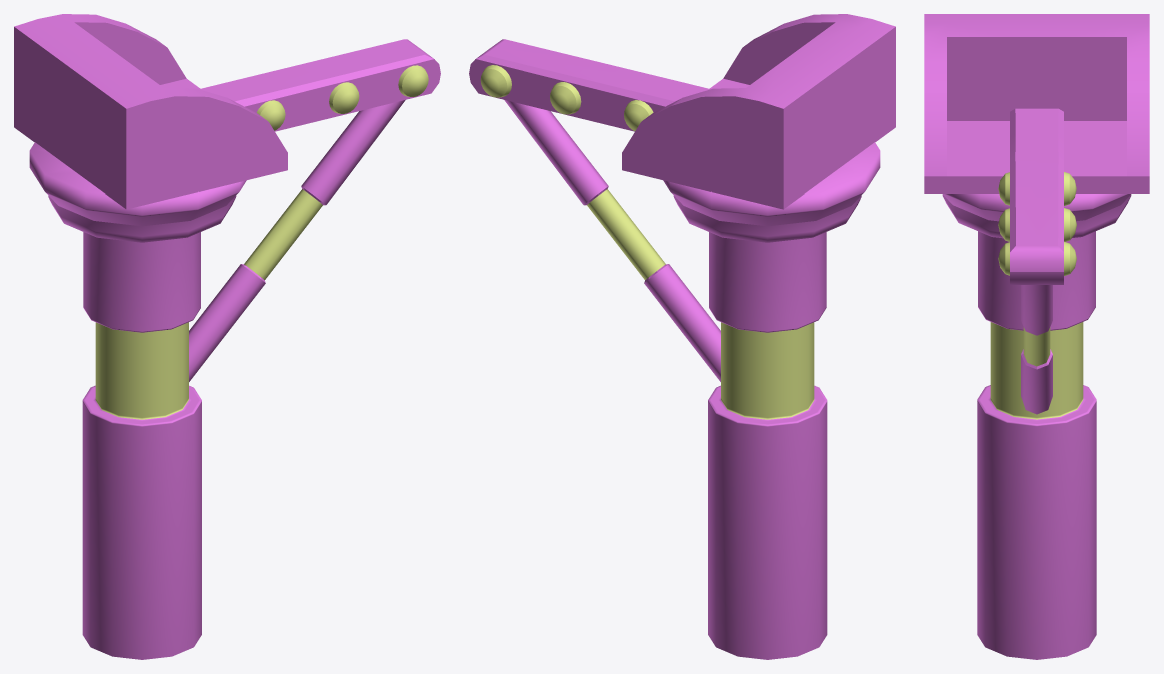
The model's file is Toy_Platform.fbx.
3 renders of one model, left to right at view 1: azimuth 30°, elevation 25°; view 2: azimuth 150°, elevation 25°; view 3: azimuth 270°, elevation 25°, orthographic.
Visible parts, largest first — view 1: pCylinder7, pCylinder5, pCylinder4; view 2: pCylinder7, pCylinder5, pCylinder4; view 3: pCylinder7, pCylinder4, pCylinder5, pCylinder6.
Part boxes in pixels (box(x1,y1,x2,y2)): pCylinder7: box(14, 14, 440, 659); pCylinder5: box(398, 65, 428, 96); pCylinder4: box(329, 82, 359, 113); pCylinder7: box(469, 14, 895, 659); pCylinder5: box(480, 65, 511, 97); pCylinder4: box(550, 82, 581, 114); pCylinder7: box(924, 14, 1149, 659); pCylinder4: box(998, 208, 1076, 241); pCylinder5: box(998, 241, 1076, 275); pCylinder6: box(998, 172, 1076, 205).
Size of the model in its own units: 4.93 by 7.22 by 2.51.
